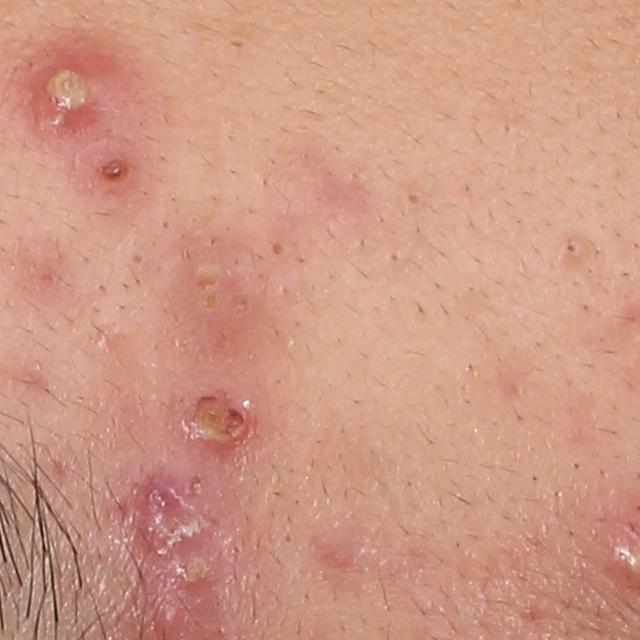comedo: (558, 231, 587, 263), (403, 186, 427, 215), (129, 247, 149, 270), (268, 238, 286, 259), (229, 34, 245, 52)
papule: (87, 150, 134, 192)
pustule: (26, 52, 120, 144), (171, 248, 250, 332), (175, 383, 259, 457), (167, 548, 215, 590)
